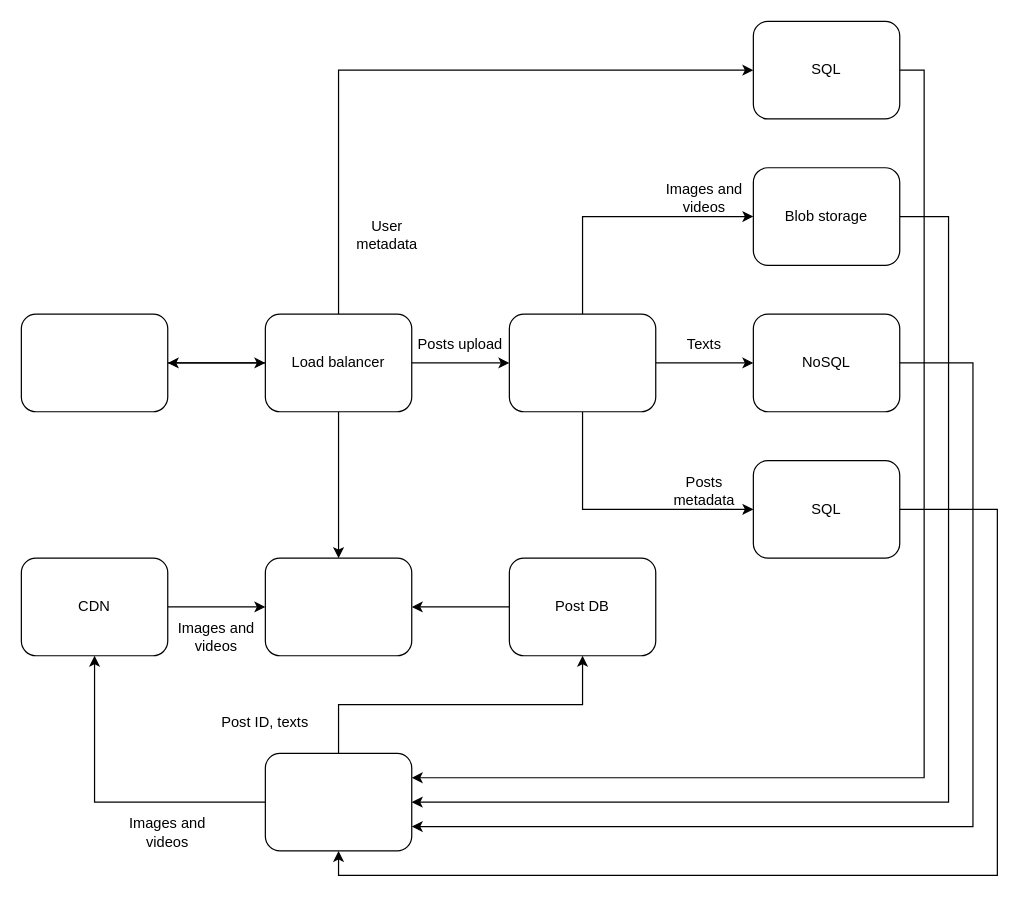
The diagram is 1028 pixels wide and 906 high, and some of its shapes have lost their labels. The shapes that lost their labels are listed below. From the top down, each one's centre as x and y in pixels, then its label:
[94,362]: User
[582,362]: Compression server
[338,606]: Application server
[338,801]: Post generation server
